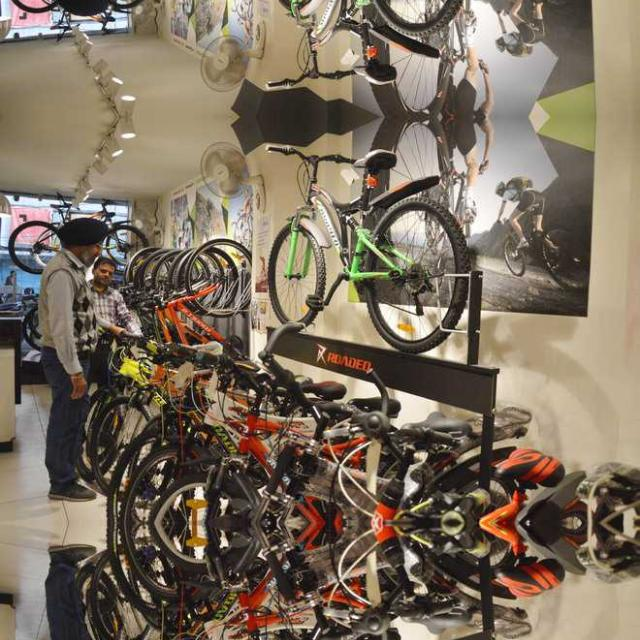obstacle: (266, 139, 494, 335), (266, 0, 493, 93)
person: (38, 212, 128, 480), (38, 564, 128, 640), (38, 0, 128, 20)
